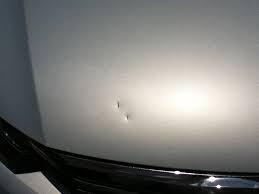bonnet-dent: (0, 1, 258, 182)
